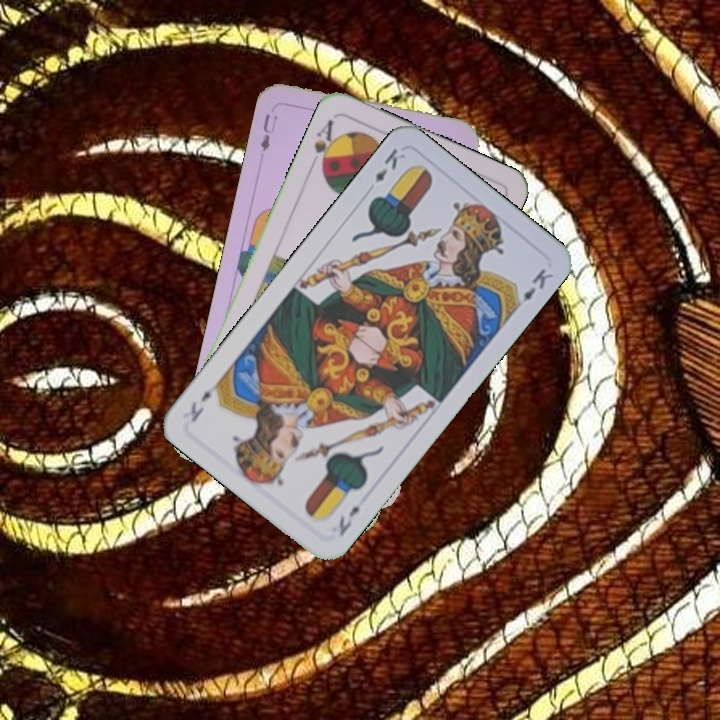EK: (370, 144, 408, 185), (334, 501, 363, 539)
EU: (256, 109, 281, 154)
SA: (309, 115, 342, 174)
